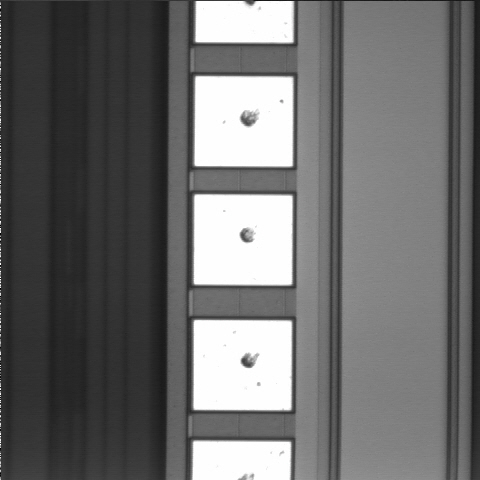pad: (195, 76, 293, 167), (194, 195, 292, 285), (194, 320, 292, 410)
